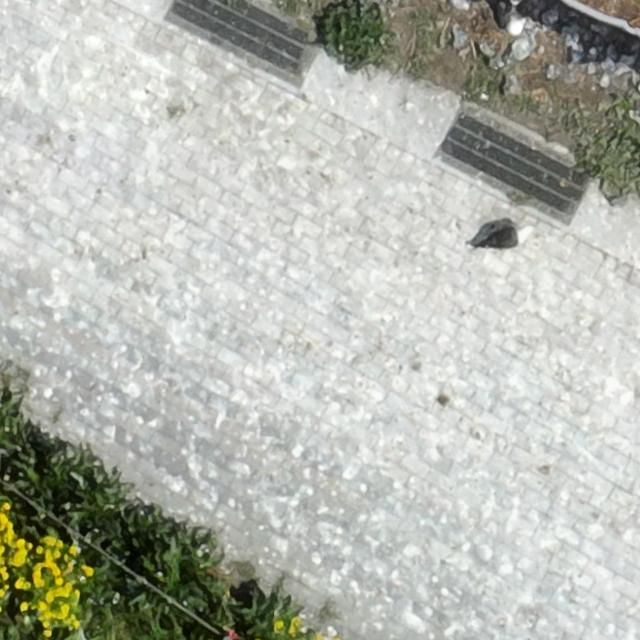umineko: (499, 4, 527, 34), (483, 230, 524, 248)
